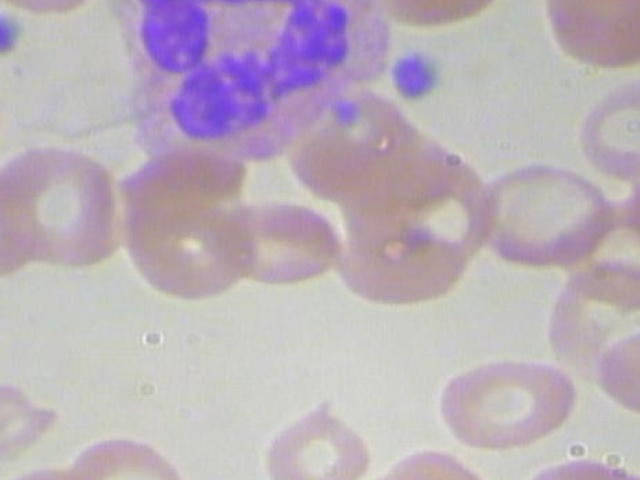Platelets: (386, 49, 442, 99), (0, 8, 24, 65)
RBC: (457, 155, 627, 276), (0, 147, 146, 268), (428, 357, 584, 452), (209, 197, 345, 290), (264, 394, 376, 480), (561, 68, 640, 188), (528, 0, 640, 75), (65, 429, 206, 480), (0, 162, 52, 282), (586, 327, 640, 422), (0, 44, 7, 164), (0, 343, 1, 480)
WBC: (107, 0, 395, 165)
